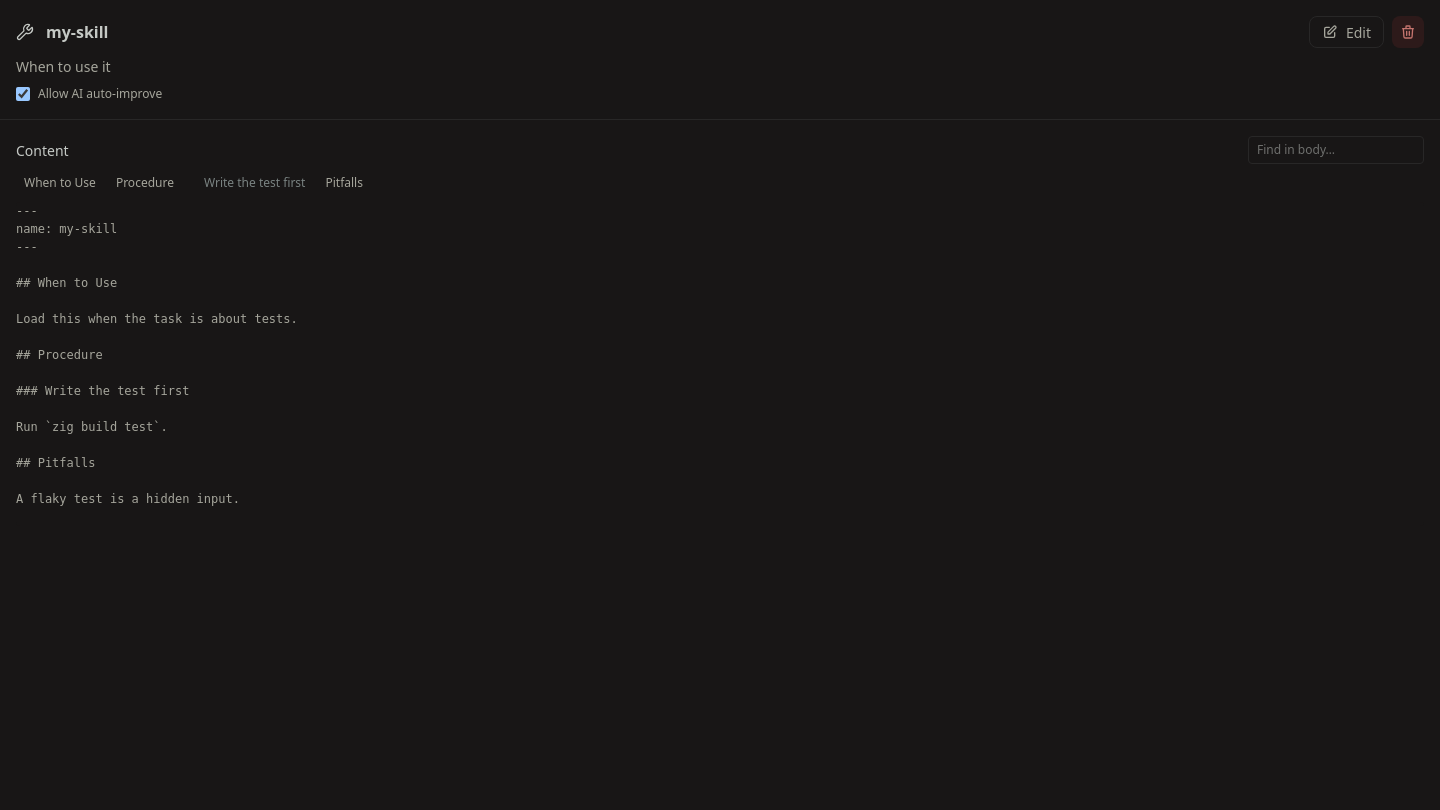
Test: SkillDetail — edit mode owns the pane › hides the find box and the outline while editing
Click the button with test id "skill-edit-btn" at (1346, 32), box x1=1309 y1=16 x2=1384 y2=48
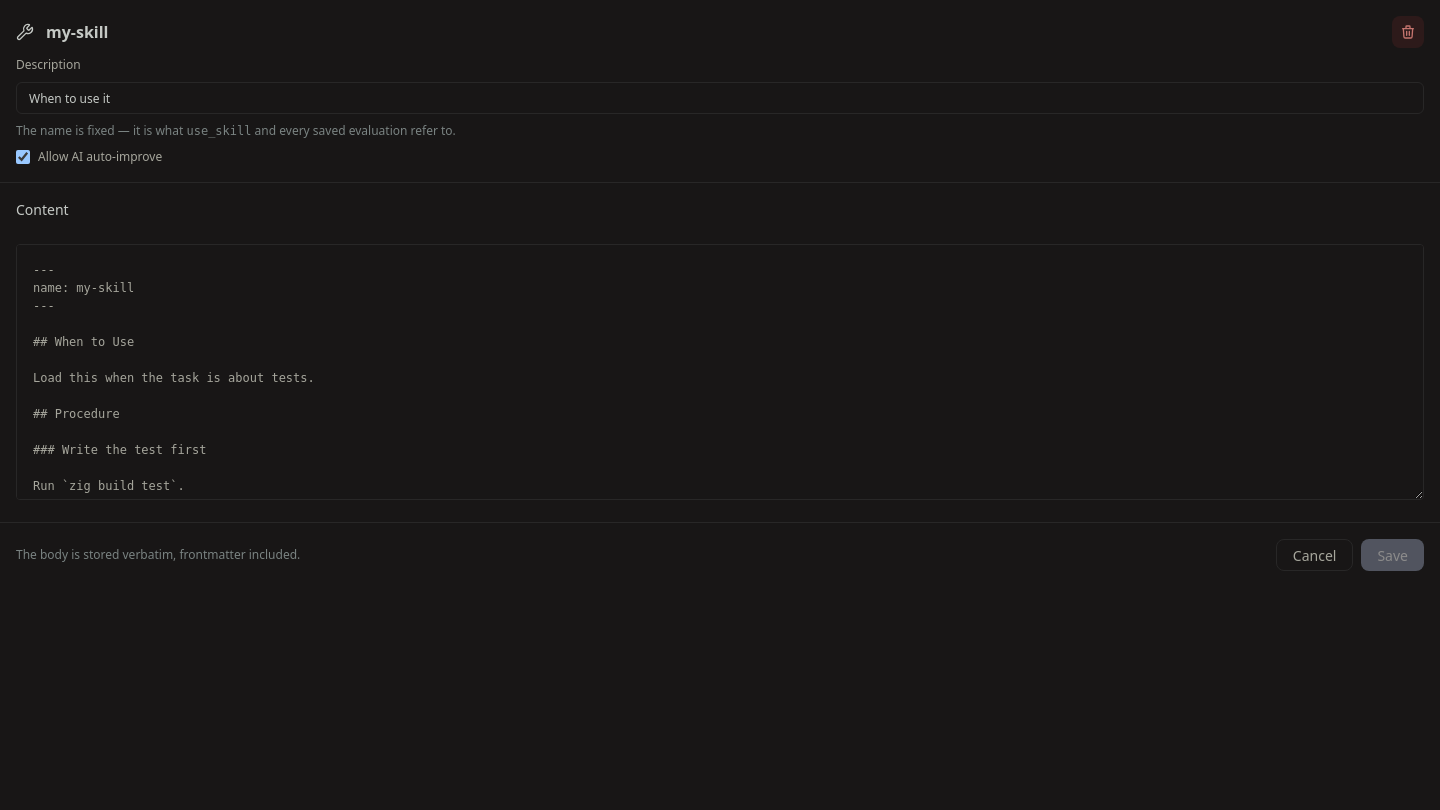
Check: the text box with test id "skill-edit-content" is shown, box x1=16 y1=244 x2=1424 y2=500
